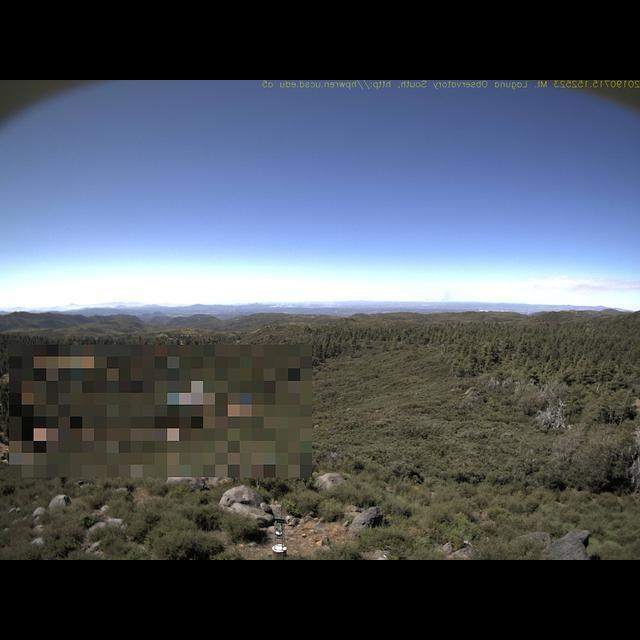Smoke: (440, 291, 456, 311)
